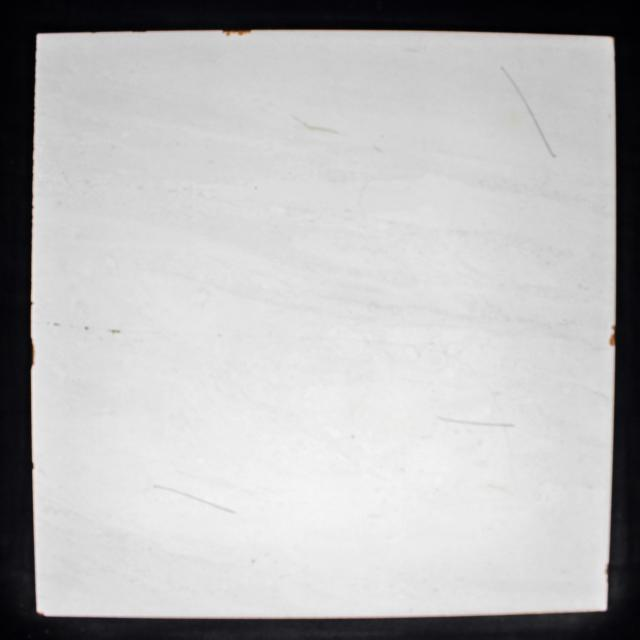edge-chipping: (220, 29, 254, 37), (29, 336, 36, 369), (608, 323, 616, 347), (604, 559, 611, 581), (35, 612, 45, 618), (31, 461, 35, 471)
line: (497, 63, 561, 159), (150, 480, 241, 518), (434, 413, 516, 429)
